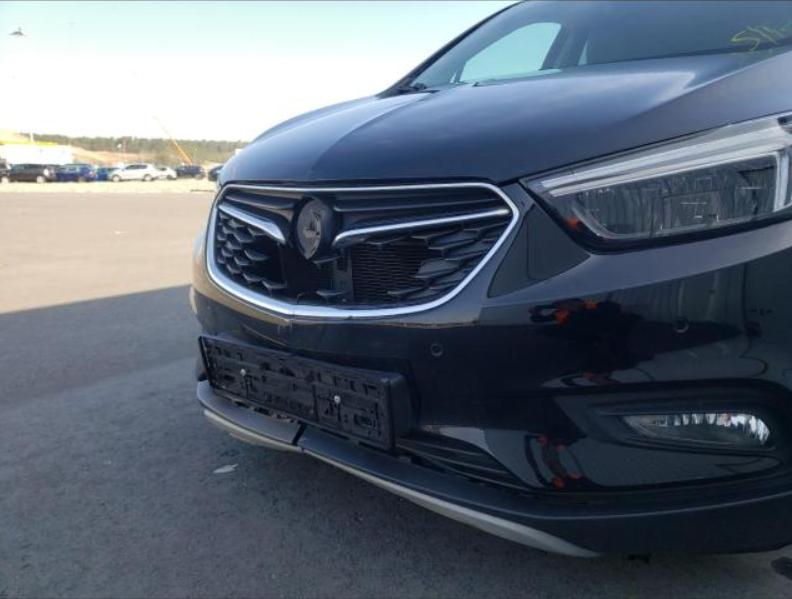Front-bumper: (189, 176, 791, 558)
Grille: (206, 182, 519, 320)
Headlight: (519, 109, 791, 254)
Hood: (214, 41, 791, 187)
License-plate: (198, 330, 412, 451)
Windshield: (400, 0, 791, 88)
